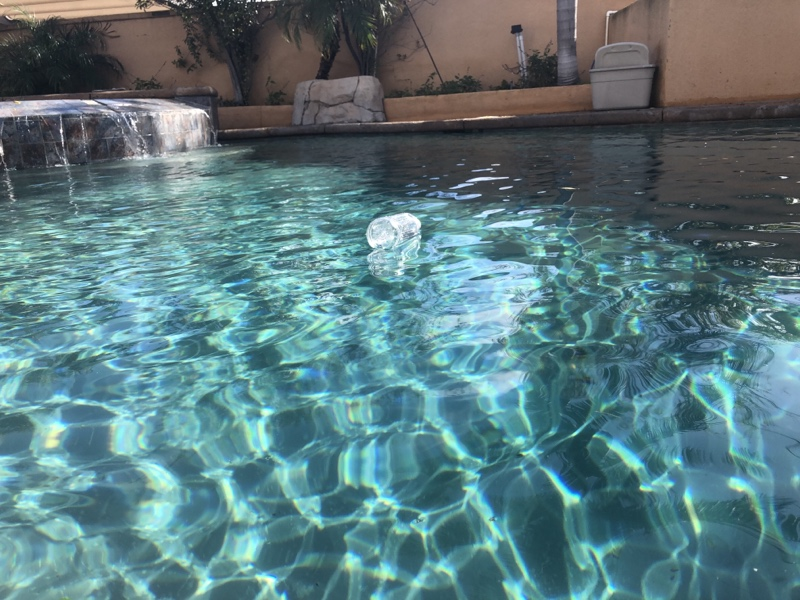Plastic Bottle: (365, 210, 424, 252)
